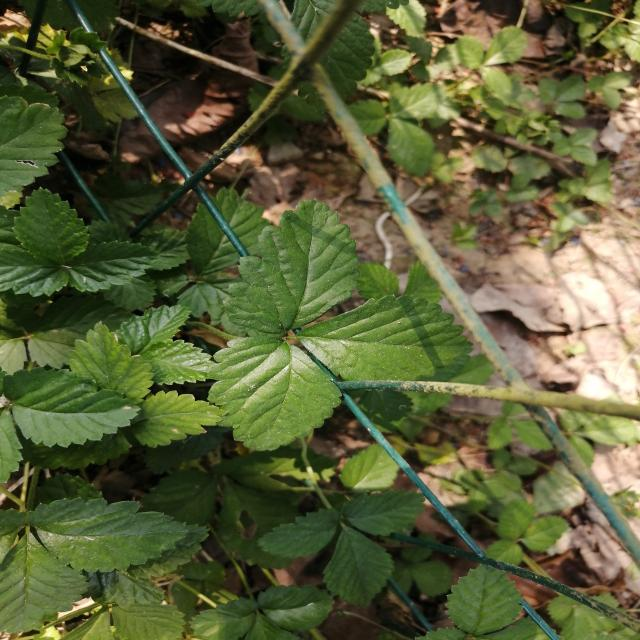Mock_strawberry: (204, 198, 475, 458), (0, 284, 250, 472)
